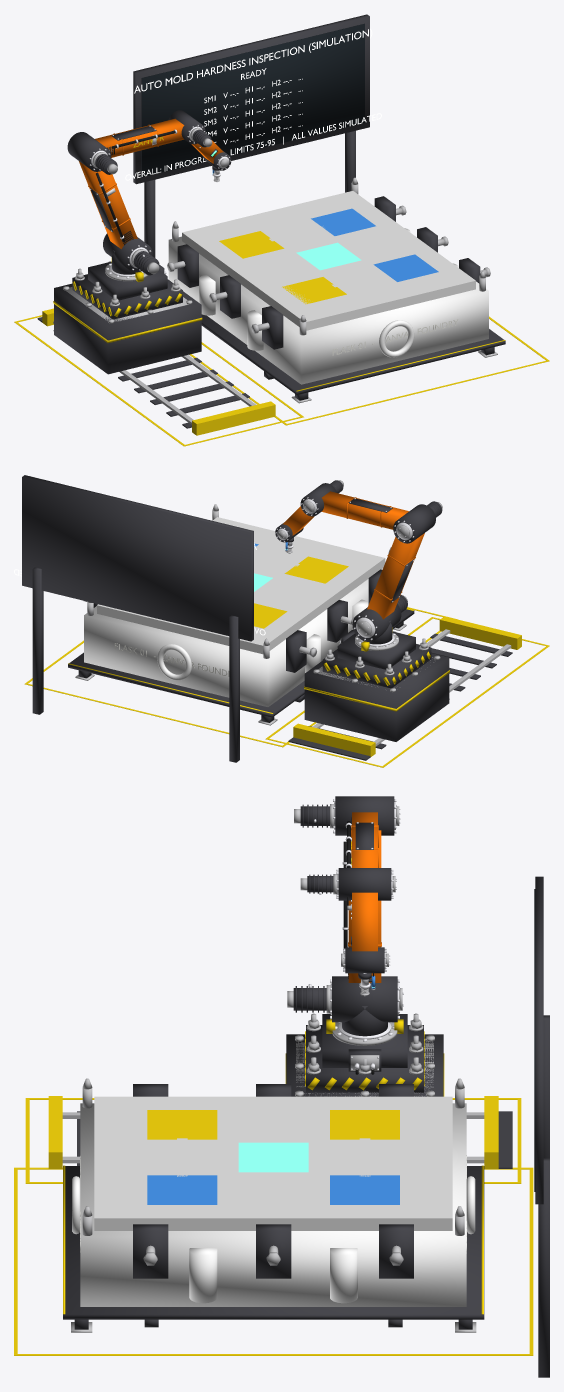
The model's file is robotic_arm.glb.
3 renders of one model, top to bottom at view 1: azimuth 30°, elevation 25°; view 2: azimuth 150°, elevation 25°; view 3: azimuth 270°, elevation 25°, orthographic. The views are drawn at different scales.
Visible parts, largest first — view 1: Status_Board, Frame_Hollow, Outer_Flask_Frame, Arm_Carriage_Body, Arm_Rail, Flask_Clamps, Mold_SupportSkid, Floor_SafetyMarkings, Base_Lower, Arm_Lower, Base_Upper, Arm_Upper (+17 smaller); view 2: Status_Board, Outer_Flask_Frame, Frame_Hollow, Arm_Carriage_Body, Arm_Rail, Mold_SupportSkid, Flask_Clamps, Arm_Lower, Floor_SafetyMarkings, Base_Lower, Arm_Upper, Base_Upper (+13 smaller); view 3: Frame_Hollow, Outer_Flask_Frame, Mold_SupportSkid, Flask_Clamps, Status_Board, Floor_SafetyMarkings, Arm_Rail, Base_Lower, Joint_1_Shoulder, Arm_Carriage_Body, SubMold_3, SubMold_5 (+24 smaller).
Part boxes in pixels (x1,y1,x2,y2): Status_Board: (133,14,369,257); Frame_Hollow: (182,191,475,330); Outer_Flask_Frame: (168,236,488,384); Arm_Carriage_Body: (54,283,201,374); Arm_Rail: (37,308,275,435); Flask_Clamps: (167,196,490,349); Mold_SupportSkid: (201,314,505,403); Floor_SafetyMarkings: (14,315,549,446); Base_Lower: (72,274,182,319); Arm_Lower: (79,161,137,249); Base_Upper: (88,261,167,300); Arm_Upper: (95,118,184,157); Status_Board: (22,475,253,762); Outer_Flask_Frame: (84,568,382,706); Frame_Hollow: (97,517,385,654); Arm_Carriage_Body: (304,653,449,741); Arm_Rail: (288,616,521,760); Mold_SupportSkid: (68,608,414,725); Flask_Clamps: (83,569,382,672); Arm_Lower: (367,533,424,619); Floor_SafetyMarkings: (24,607,549,767); Base_Lower: (322,644,431,688); Arm_Upper: (321,491,408,529); Base_Upper: (337,631,415,669); Frame_Hollow: (94,1096,452,1230); Outer_Flask_Frame: (80,1103,466,1306); Mold_SupportSkid: (63,1165,484,1332); Flask_Clamps: (133,1084,413,1278); Status_Board: (534,876,549,1377); Floor_SafetyMarkings: (14,1098,533,1355); Arm_Rail: (48,1096,512,1168); Base_Lower: (306,1025,423,1092); Joint_1_Shoulder: (332,976,397,1022); Arm_Carriage_Body: (286,1034,443,1096); SubMold_3: (238,1142,308,1172); SubMold_5: (147,1175,217,1204).
Size of what is drawn, in the model's own units: 13.37 by 8.18 by 11.44.
